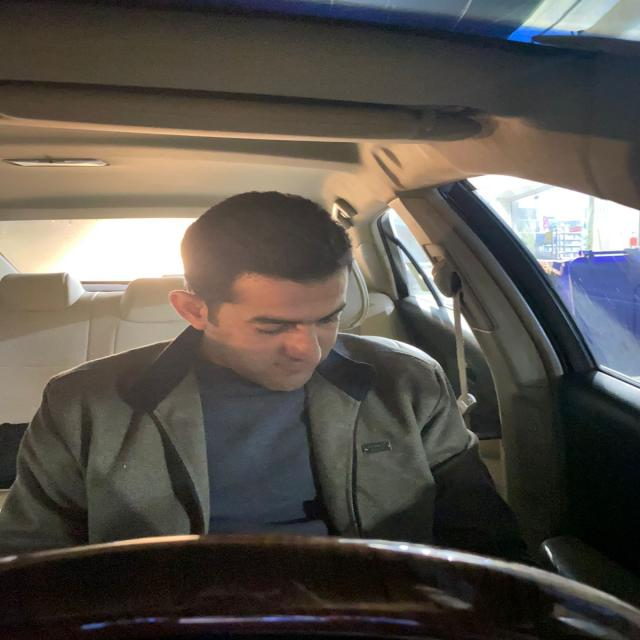drowsy: (165, 184, 368, 403)
